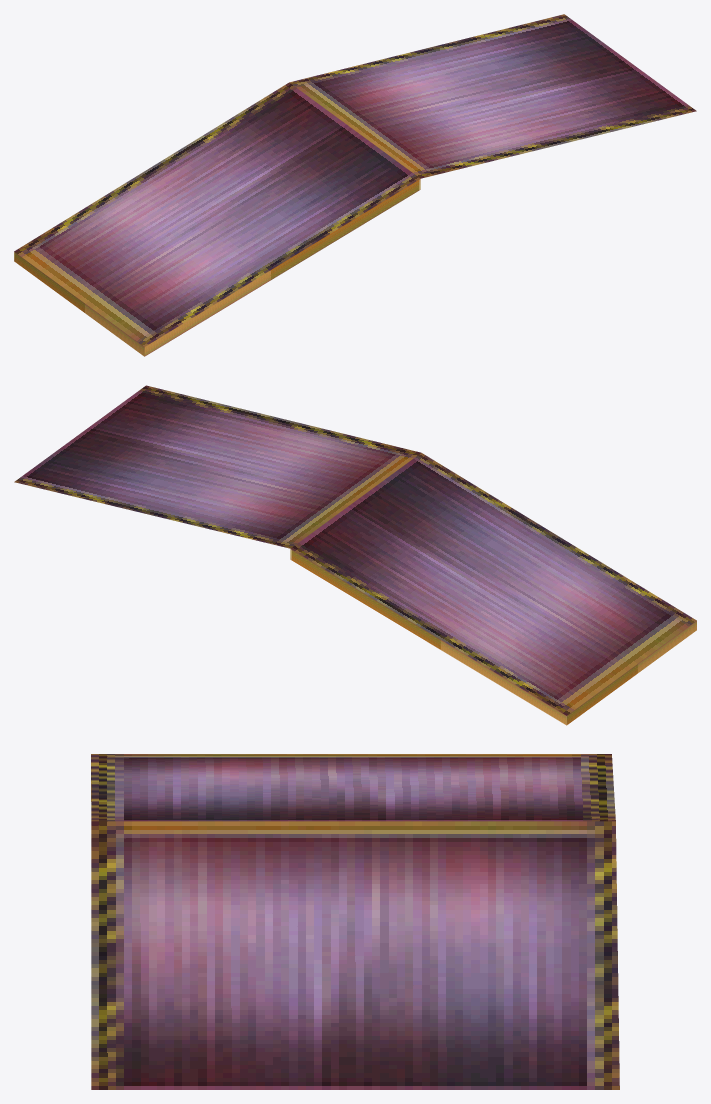
File: RAMP06b.glb
The picture shows the model from 3 angles, top to bottom: view 1: azimuth 30°, elevation 25°; view 2: azimuth 150°, elevation 25°; view 3: azimuth 270°, elevation 25°; orthographic projection. The views are drawn at different scales.
Visible parts, largest first — view 1: RAMP06b; view 2: RAMP06b; view 3: RAMP06b.
Part boxes in pixels (x1,y1,x2,y2): RAMP06b: (14,14,696,356); RAMP06b: (14,385,696,725); RAMP06b: (91,754,619,1089).
Size of the model in its own units: 3214 by 616 by 1336.
3 materials, 3 textured.
